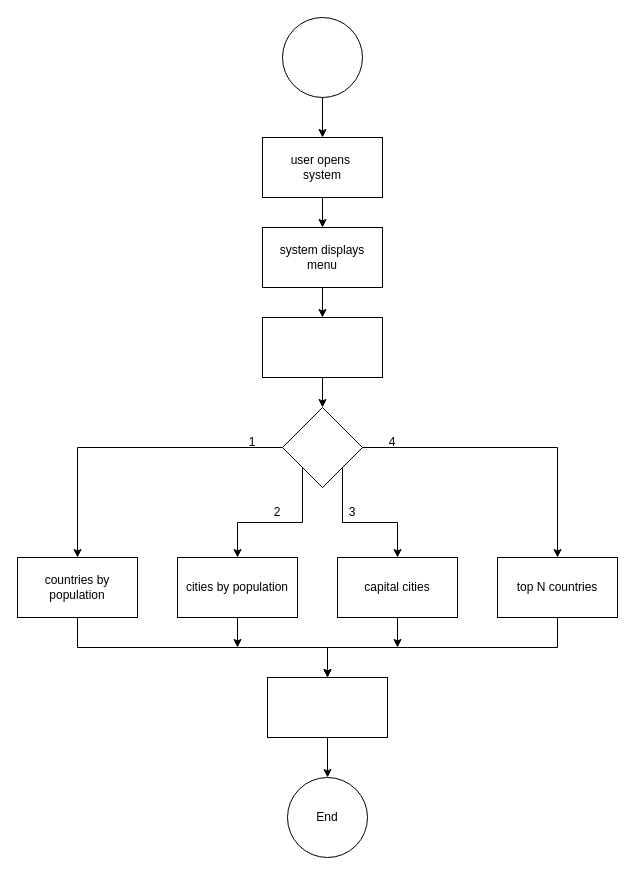
Some shapes in this 635 by 875 pixel diagram are drawn without their labels. Each missing label, with the centre of its shape:
display report: [327,707]
start: [322,57]
user selects report: [322,347]
which report?: [322,447]
